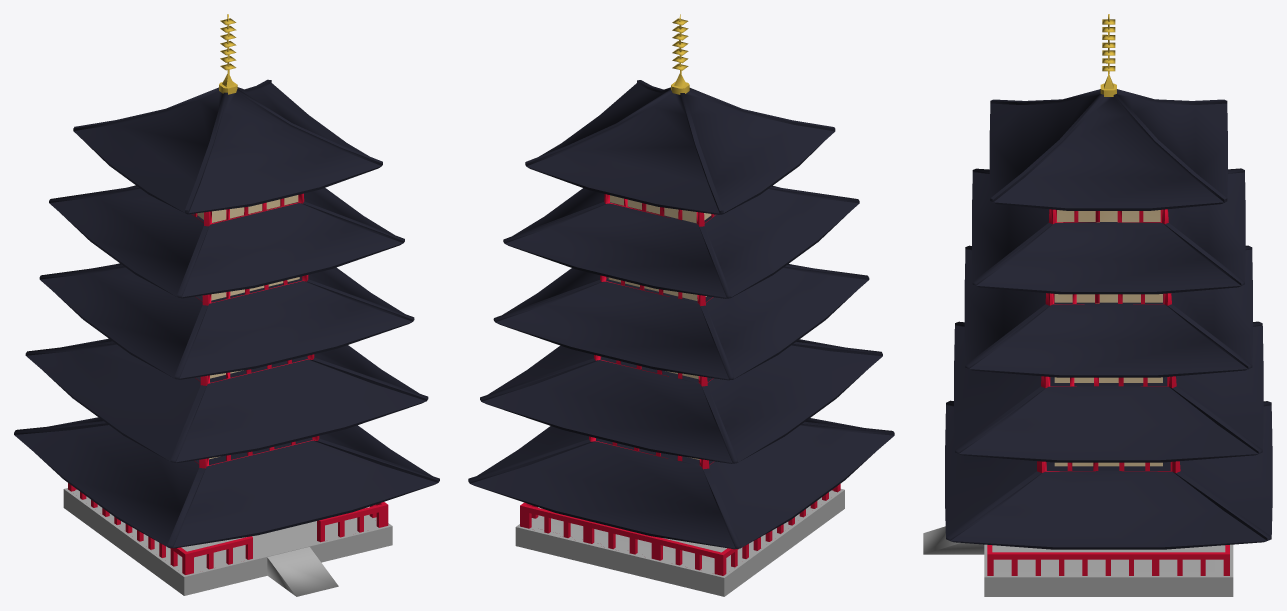
The model's file is fiveStoriedPagoda.obj.
The picture shows the model from 3 angles, left to right: view 1: azimuth 30°, elevation 25°; view 2: azimuth 150°, elevation 25°; view 3: azimuth 270°, elevation 25°; orthographic projection. The views are drawn at different scales.
Visible parts, largest first — view 1: 立方体.007; view 2: 立方体.007; view 3: 立方体.007.
Boxes of the visible parts, x1,y1,x2,y2 form: 立方体.007: [14, 14, 439, 596]; 立方体.007: [468, 14, 894, 596]; 立方体.007: [923, 14, 1272, 596].
Bounding box in the file's own units: 8.49 × 15.16 × 9.05.
6 materials, 6 textured.
